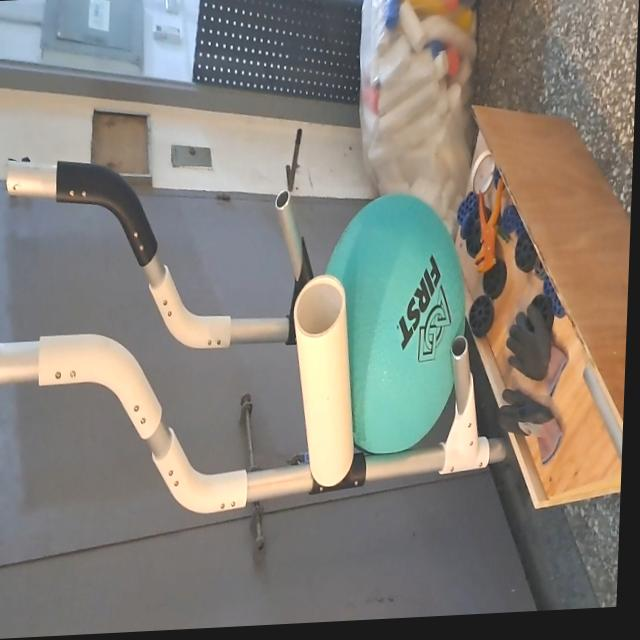ALGAE: (309, 186, 472, 454)
CORAL: (286, 271, 360, 486)
